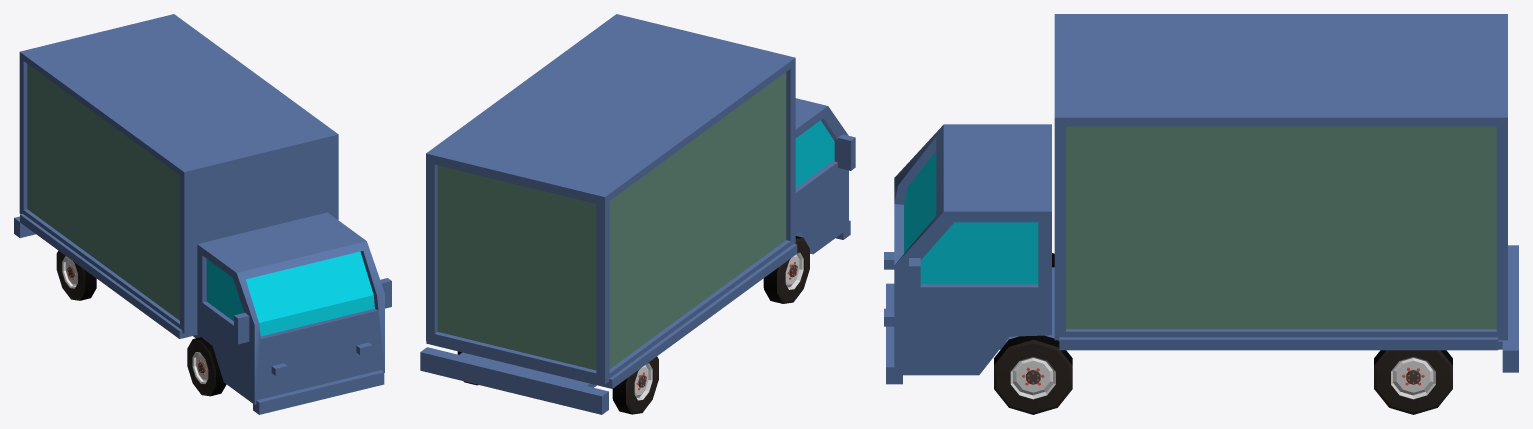
File: truck.fbx
3 renders of one model, left to right at view 1: azimuth 30°, elevation 25°; view 2: azimuth 150°, elevation 25°; view 3: azimuth 270°, elevation 25°, orthographic. The views are drawn at different scales.
Parts seen in each view (by area): view 1: pCube17, pCube18, pCube27, pCube21, tire_L_front3, tire_L_front6, sidemirror1; view 2: pCube17, pCube18, pCube20, pCube21, tire_L_front3, tire_L_front6, sidemirror1, pCube22; view 3: pCube17, pCube18, pCube21, tire_L_front4, tire_L_front5, pCube20, pCube27.
Boxes of the visible parts, <box> form: pCube17: <box>19,14,338,333</box>; pCube18: <box>197,212,384,404</box>; pCube27: <box>253,370,384,414</box>; pCube21: <box>20,214,197,338</box>; tire_L_front3: <box>187,337,226,396</box>; tire_L_front6: <box>56,250,96,300</box>; sidemirror1: <box>234,313,249,344</box>; pCube17: <box>426,14,795,384</box>; pCube18: <box>795,98,848,254</box>; pCube20: <box>420,347,608,414</box>; pCube21: <box>426,244,797,388</box>; tire_L_front3: <box>763,236,809,303</box>; tire_L_front6: <box>612,356,658,414</box>; sidemirror1: <box>834,134,855,170</box>; pCube22: <box>459,352,596,387</box>; pCube17: <box>1054,14,1507,340</box>; pCube18: <box>894,124,1051,375</box>; pCube21: <box>1059,337,1498,350</box>; tire_L_front4: <box>994,335,1072,414</box>; tire_L_front5: <box>1374,350,1452,414</box>; pCube20: <box>1502,245,1518,372</box>; pCube27: <box>886,283,902,384</box>.
Bounding box in the file's own units: 302 × 394 × 750.
4 materials, 1 textured.
